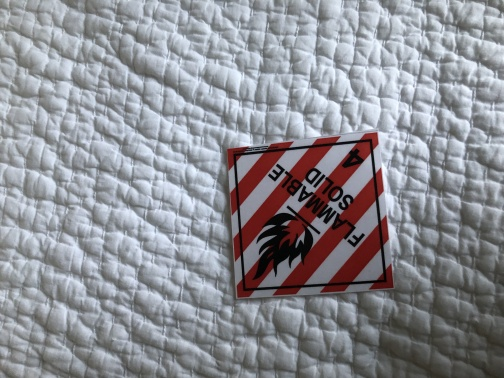FlammableSolid: (228, 144, 390, 284)
